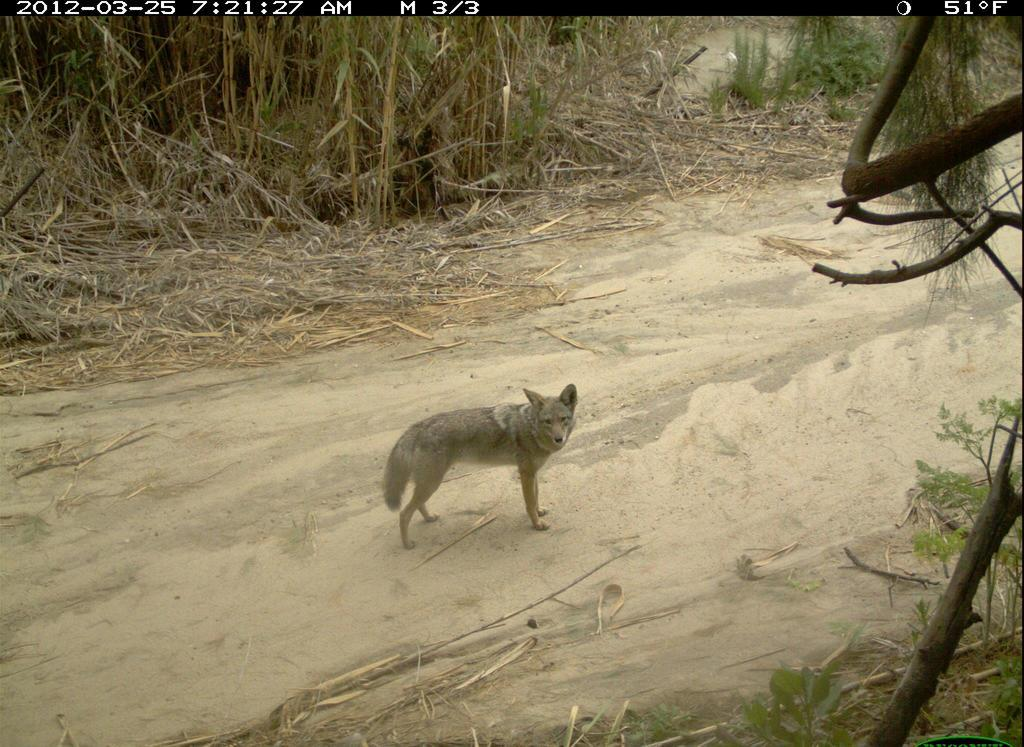coyote: (376, 379, 592, 557)
